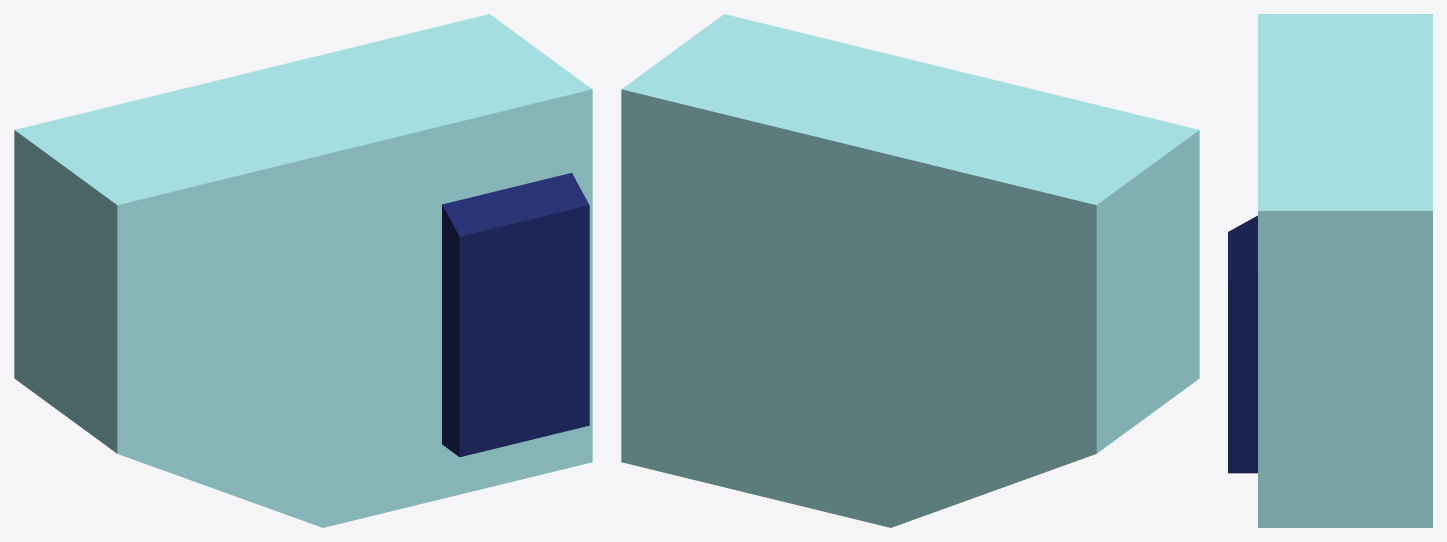
3 views of the same model, side by side, from view 1: azimuth 30°, elevation 25°; view 2: azimuth 150°, elevation 25°; view 3: azimuth 270°, elevation 25° (orthographic). The views are drawn at different scales.
Visible parts, largest first — view 1: Mesh_0.014; view 2: Mesh_0.014; view 3: Mesh_0.014.
Boxes of the visible parts, x1=… form: Mesh_0.014: x1=14, y1=14, x2=592, y2=527; Mesh_0.014: x1=621, y1=14, x2=1199, y2=527; Mesh_0.014: x1=1228, y1=14, x2=1432, y2=527.
Size of the model in its own units: 4 by 3 by 1.76.
